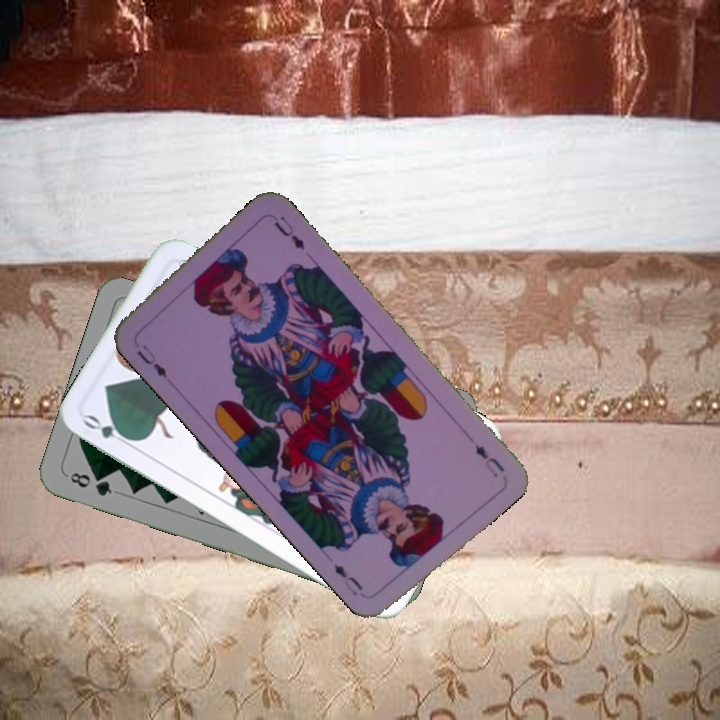EU: (133, 340, 170, 381), (470, 439, 507, 480)
G8: (66, 468, 115, 499)
GO: (79, 410, 137, 449)
